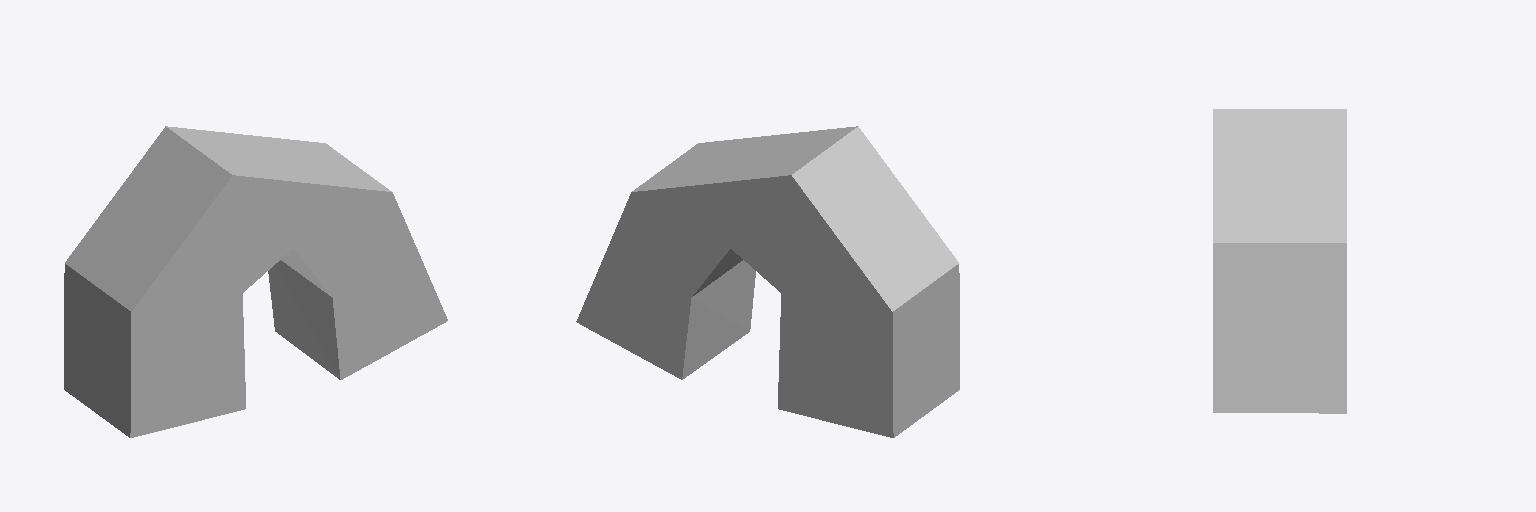
The model's file is Animation_000020.obj.
3 views of the same model, side by side, from view 1: azimuth 30°, elevation 25°; view 2: azimuth 150°, elevation 25°; view 3: azimuth 270°, elevation 25° (orthographic).
Visible parts, largest first — view 1: Cube; view 2: Cube; view 3: Cube.
Boxes of the visible parts, <box> form: Cube: <box>64,126,447,437</box>; Cube: <box>576,126,959,437</box>; Cube: <box>1213,109,1346,413</box>.
Size of the model in its own units: 3.65 by 2.62 by 1.33.